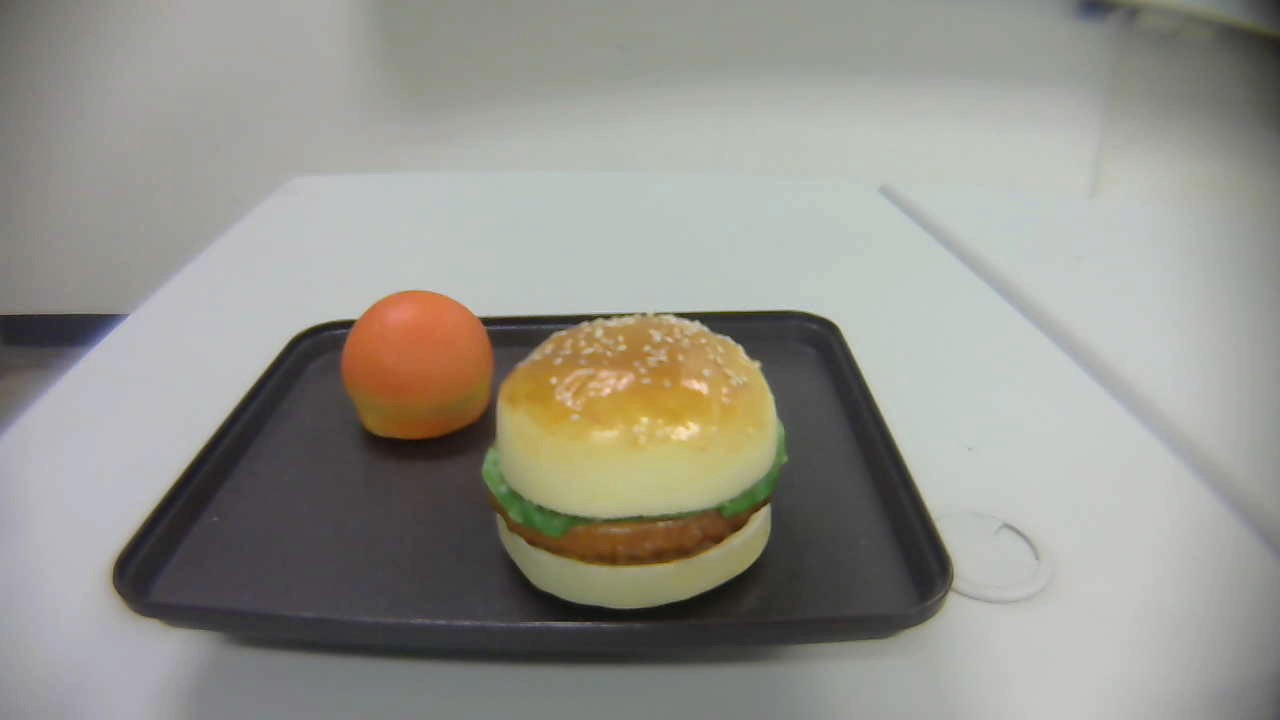bun: (339, 292, 494, 441)
hamburger: (482, 313, 788, 610)
